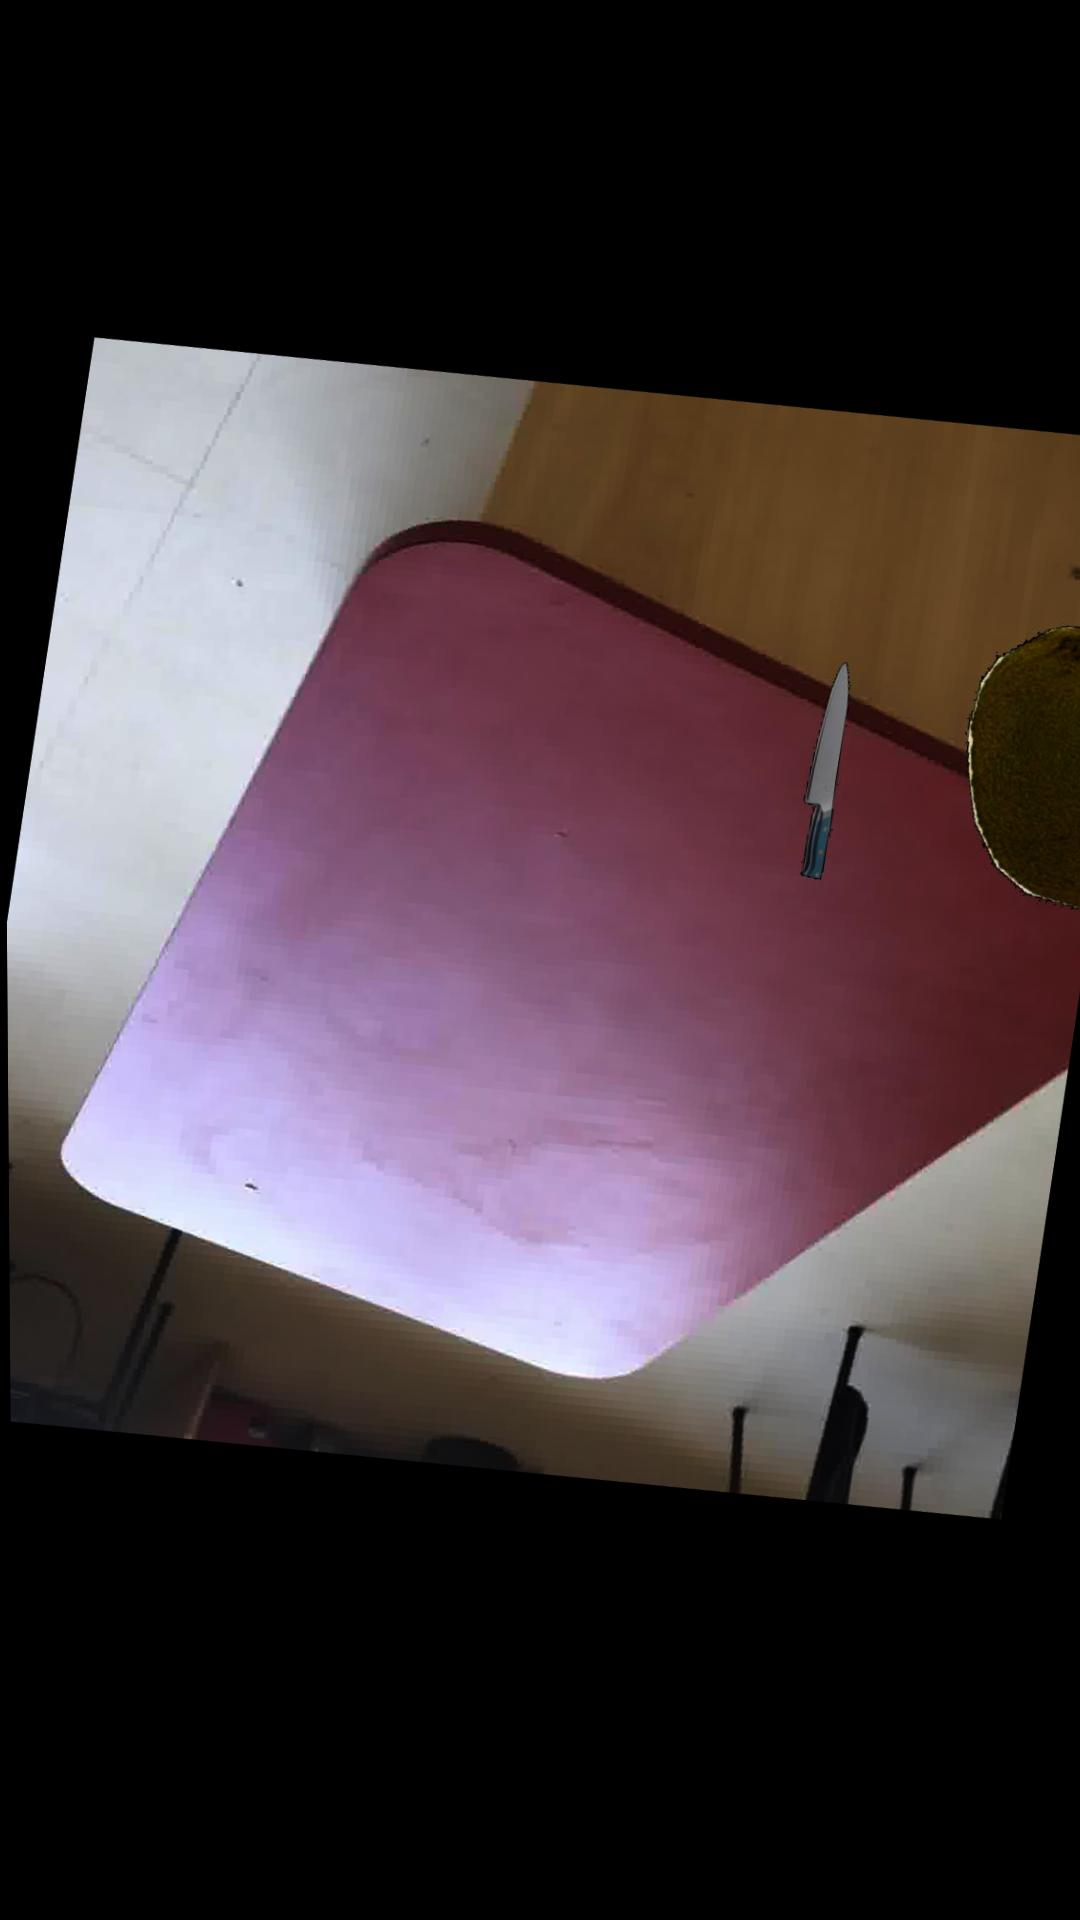kiwi: (965, 637, 1080, 922)
knife: (799, 671, 848, 887)
